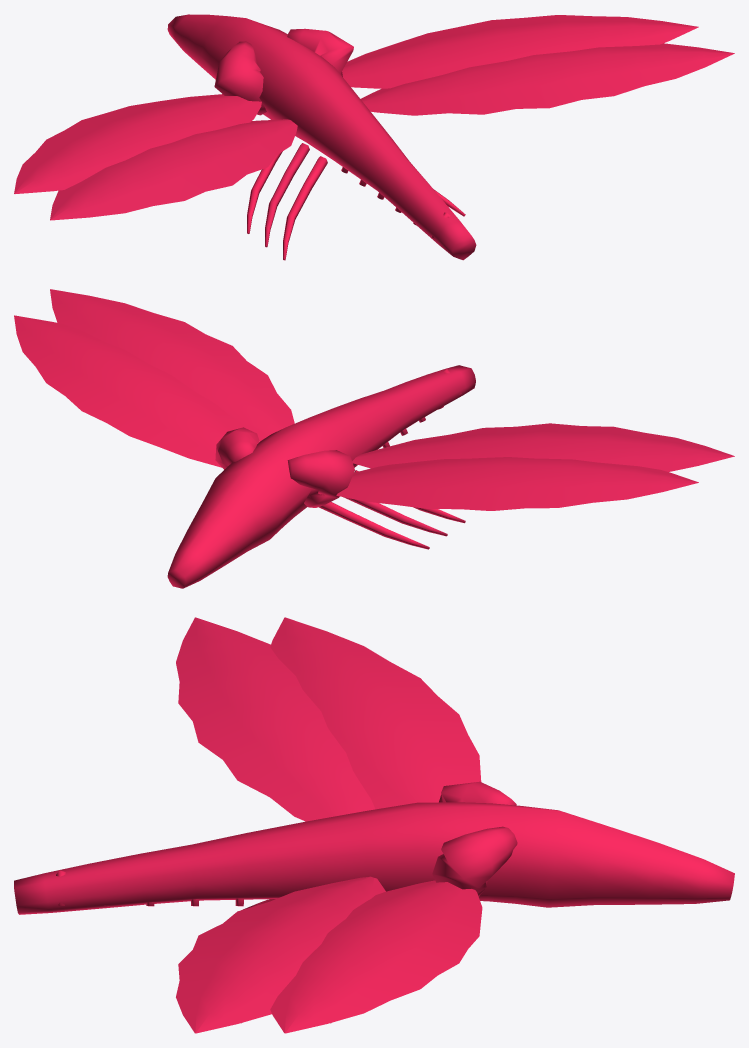
Rendered from SM_LW_Dragonfly.fbx.
3 renders of one model, top to bottom at view 1: azimuth 30°, elevation 25°; view 2: azimuth 150°, elevation 25°; view 3: azimuth 270°, elevation 25°, orthographic. The views are drawn at different scales.
Parts seen in each view (by area): view 1: SM_LW_Dragonfly; view 2: SM_LW_Dragonfly; view 3: SM_LW_Dragonfly.
Part boxes in pixels (left/top/right/bottom): SM_LW_Dragonfly: left=14, top=14, right=734, bottom=260; SM_LW_Dragonfly: left=14, top=289, right=734, bottom=588; SM_LW_Dragonfly: left=14, top=617, right=734, bottom=1033.
Size of the model in its own units: 16.12 by 22.01 by 3.99.
